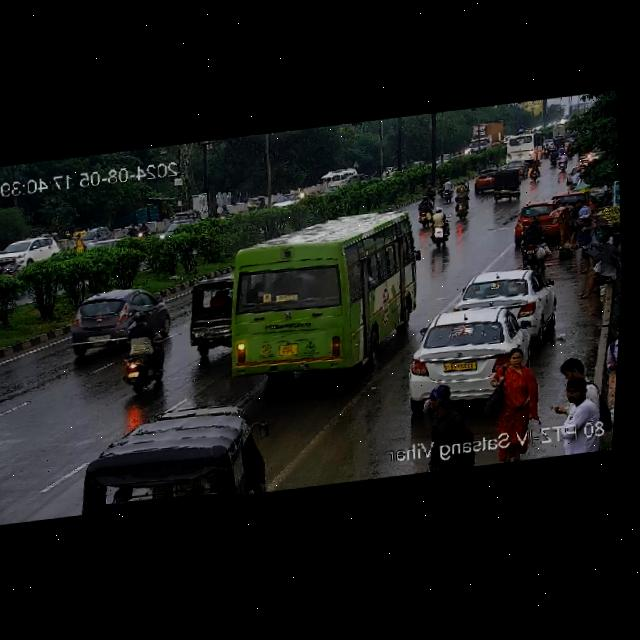bus: (208, 202, 428, 384), (500, 131, 543, 166)
car: (71, 385, 282, 515), (405, 303, 538, 406), (63, 284, 171, 356), (456, 263, 556, 332), (181, 268, 240, 350), (506, 195, 560, 243), (0, 232, 60, 271), (489, 166, 526, 202), (471, 163, 502, 192), (159, 215, 196, 237), (81, 225, 109, 251), (561, 163, 588, 187), (550, 188, 582, 205)
motorcycle: (108, 304, 171, 400), (518, 213, 549, 275), (410, 189, 442, 228), (427, 201, 453, 249), (455, 185, 471, 224), (442, 175, 455, 202), (435, 171, 447, 197), (134, 221, 150, 240), (528, 161, 542, 182), (556, 151, 569, 170), (547, 148, 560, 166), (217, 203, 231, 219)
person: (421, 381, 473, 472), (492, 345, 537, 434), (549, 382, 602, 456), (576, 252, 624, 305), (601, 315, 620, 447), (557, 355, 597, 392), (574, 218, 601, 268), (567, 197, 583, 247), (554, 208, 572, 250), (71, 232, 85, 254), (579, 198, 592, 217)
